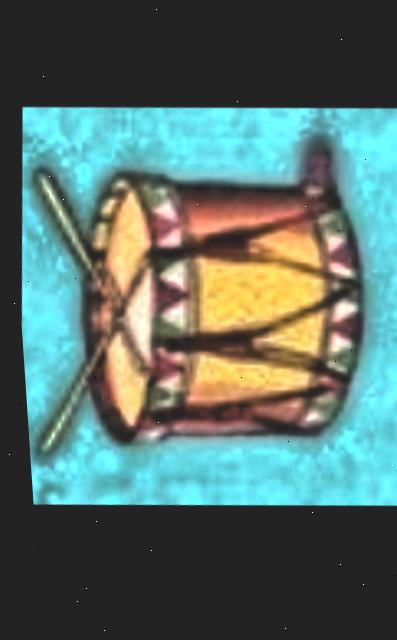El Tambor: (6, 86, 397, 529)
